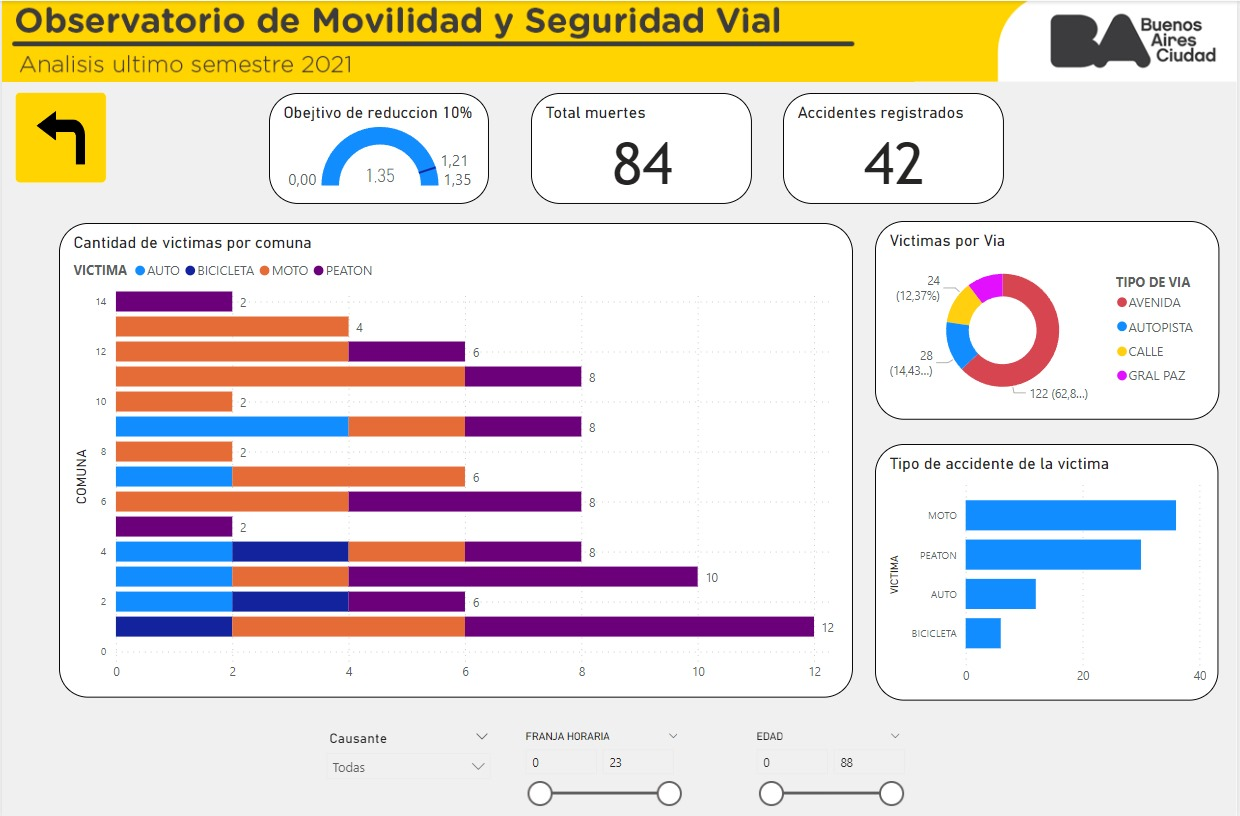

The dashboard page shown, as its layout file describes it:
{"tool":"powerbi","page":{"name":"Informe Homicidios","canvas":[1280,720],"ordinal":1},"visuals":[{"type":"image","box":[0,90,120,104.4],"z":0},{"type":"actionButton","title":"Borrar Segmentaciones","box":[1036.7,123.4,243.3,36.7],"z":1000},{"type":"card","title":"Total muertes","fields":{"Values":["Sum(HECHOS N.CANTIDAD VICTIMAS)"]},"box":[527.8,93.3,228.9,101.1],"z":2000},{"type":"card","title":"Accidentes registrados","fields":{"Values":["CountNonNull(HECHOS N.ID_hecho)"]},"box":[788.9,93.3,228.9,101.1],"z":3000},{"type":"kpi","title":"Reducción del 10% la Tasa de Víctimas del Último Semestre","fields":{"Indicator":["Medidas.TasaVictimasUltimoSemestre"],"Goal":["Medidas.ObjetivoVictimasSemestre"],"TrendLine":["HECHOS N.FECHA.Variación.Jerarquía de fechas.Año"]},"box":[271.1,93.3,228.9,101.1],"z":4000},{"type":"donutChart","title":"Victimas por Via","fields":{"Category":["HECHOS N.TIPO DE VIA"],"Y":["Sum(HECHOS N.CANTIDAD VICTIMAS)"]},"box":[905.4,207.8,356.7,205.6],"z":5000},{"type":"slicer","fields":{"Values":["HECHOS N.FRANJA HORARIA"]},"box":[13.3,581,243.3,118.9],"z":6000},{"type":"columnChart","title":"Tipo de accidente de la victima","fields":{"Y":["CountNonNull(HECHOS N.TIPO DE VIA)"],"Category":["HECHOS N.VICTIMA"],"Series":["HECHOS N.VICTIMA"]},"box":[905.4,433.3,356.7,266.7],"z":7000},{"type":"slicer","fields":{"Values":["HECHOS N.ACUSADO"]},"box":[13.3,338.9,243.3,225.6],"z":8000},{"type":"barChart","fields":{"Category":["HECHOS N.COMUNA","HECHOS N.TIPO DE VIA"],"Y":["Sum(HECHOS N.CANTIDAD VICTIMAS)"],"Series":["HECHOS N.VICTIMA"]},"box":[271.1,207.8,608.9,492.2],"z":9000},{"type":"slicer","fields":{"Values":["VICTIMAS N.EDAD"]},"box":[13.3,205.6,243.3,118.9],"z":10000}]}

Visuals, with their boxes on the page's 1280x720 design canvas (x1, y1, x2, y2). These are canvas units, not pixel positions in the 1240x816 screenshot, which may show the page scaled, cropped or inside an application window:
image: 0/90/120/194
"Borrar Segmentaciones" actionButton: 1037/123/1280/160
"Total muertes" card: 528/93/757/194
"Accidentes registrados" card: 789/93/1018/194
"Reducción del 10% la Tasa de Víctimas del Último Semestre" kpi: 271/93/500/194
"Victimas por Via" donutChart: 905/208/1262/413
slicer - HECHOS N.FRANJA HORARIA: 13/581/257/700
"Tipo de accidente de la victima" columnChart: 905/433/1262/700
slicer - HECHOS N.ACUSADO: 13/339/257/564
barChart - HECHOS N.COMUNA x HECHOS N.TIPO DE VIA: 271/208/880/700
slicer - VICTIMAS N.EDAD: 13/206/257/324
